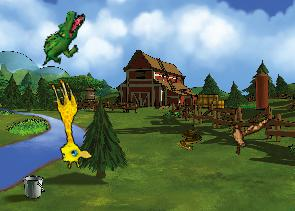crocodile: (40, 6, 86, 71)
eagle: (219, 104, 271, 161)
giraffe: (39, 76, 94, 171)
